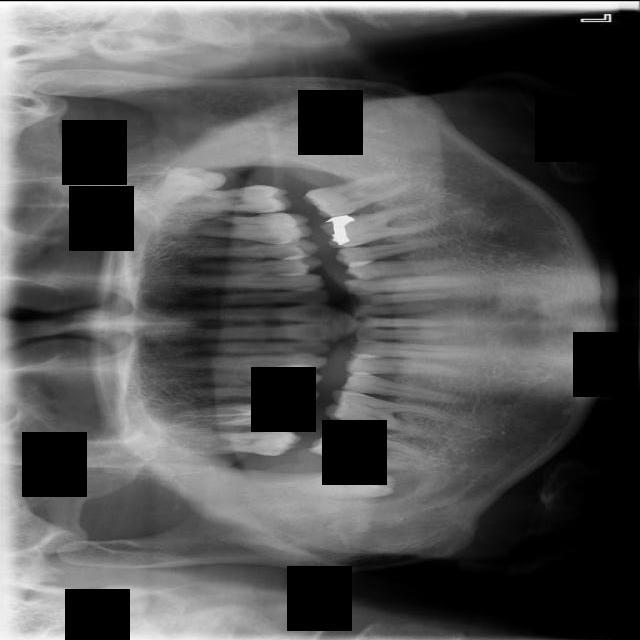52: (320, 211, 373, 250), (256, 399, 311, 430)
73: (173, 401, 267, 428), (584, 22, 594, 26)
BioHorizons Implant: (159, 184, 293, 213)
BioLife Implant: (146, 149, 229, 212)
Blue Sky Bio Implant: (301, 165, 413, 225)
Caries: (179, 428, 302, 455)
Implant: (307, 417, 429, 476)
Keystone Dental Implant: (287, 463, 396, 506)
